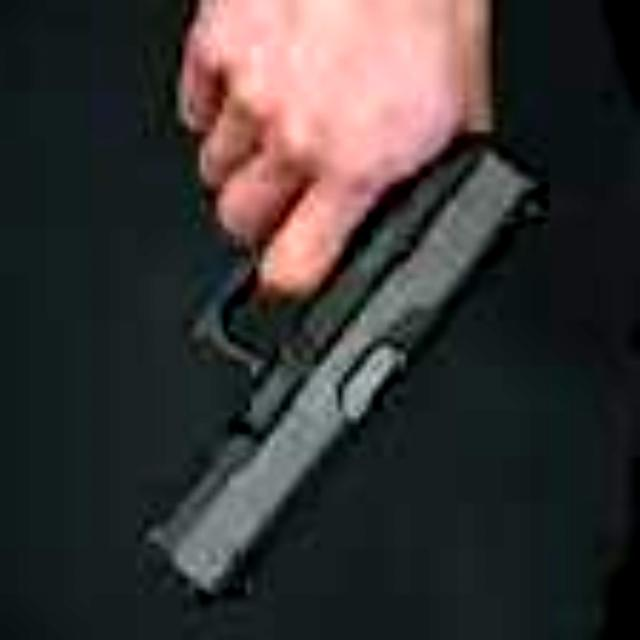pistol: (86, 0, 560, 618)
